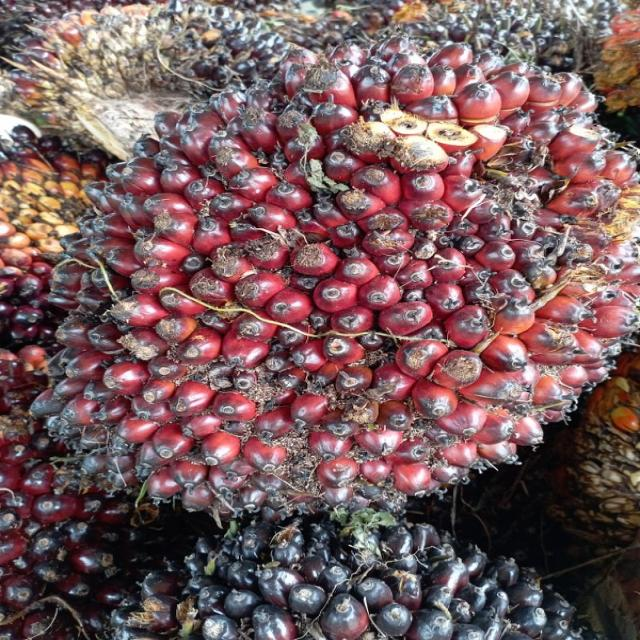fraksi 1: (59, 37, 625, 510)
